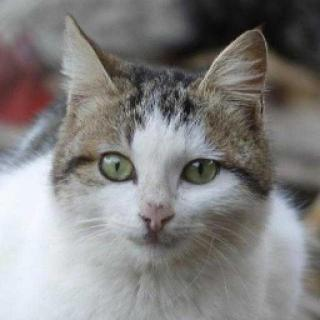cat: (54, 6, 280, 284)
nose: (135, 182, 182, 241)
